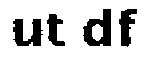d: (80, 8, 113, 50)
f: (116, 4, 141, 50)
t: (44, 10, 67, 51)
u: (8, 15, 43, 49)
